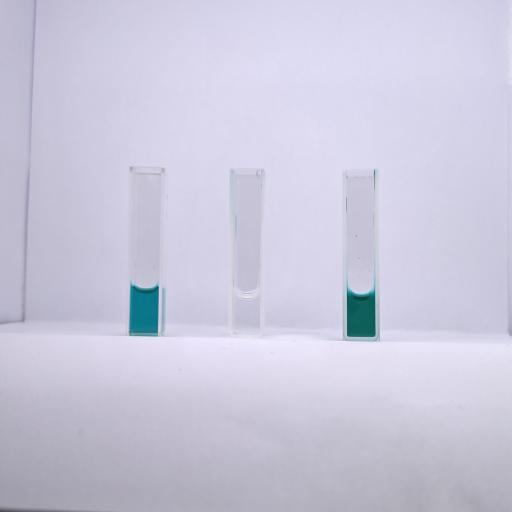cuvette: (124, 163, 167, 339), (340, 166, 382, 344), (228, 165, 266, 339)
liquid: (130, 285, 159, 334), (348, 290, 375, 338), (233, 290, 260, 333)
